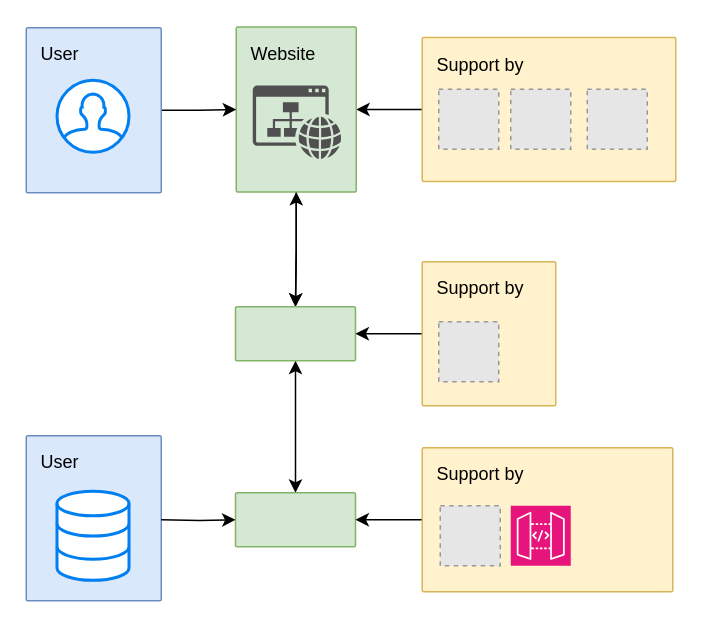
The diagram is 702 pixels wide and 627 high, and some of its shapes have lost their labels. Grey dashed boxes stand in for pictures. The centre of each missing label's shape, as x and y in pixels:
Controller: the point at 295,333
Model: the point at 295,519
